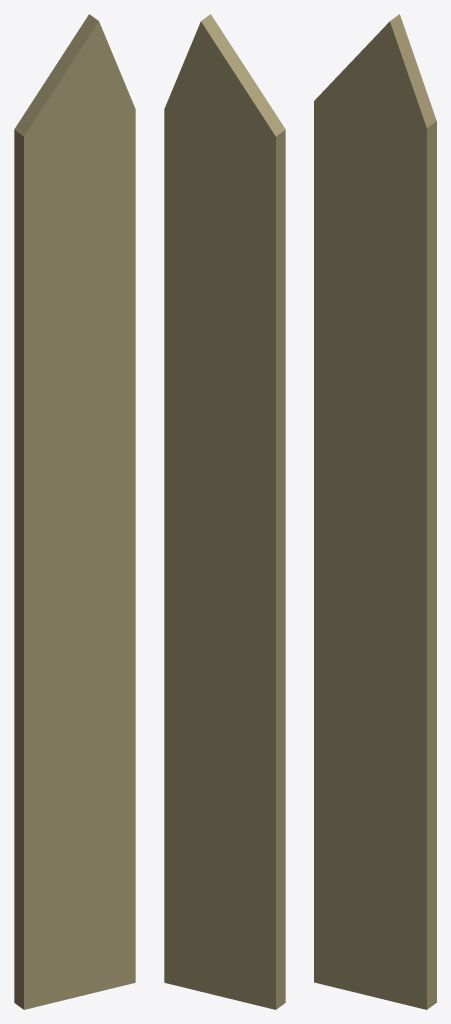
File: Fence(10).fbx
The picture shows the model from 3 angles, left to right: view 1: azimuth 30°, elevation 25°; view 2: azimuth 150°, elevation 25°; view 3: azimuth 330°, elevation 25°; orthographic projection.
Visible parts, largest first — view 1: Cube.057; view 2: Cube.057; view 3: Cube.057.
Boxes of the visible parts, bbox=[...] form: Cube.057: bbox=[14, 14, 135, 1009]; Cube.057: bbox=[164, 14, 285, 1009]; Cube.057: bbox=[314, 14, 436, 1009].
Size of the model in its own units: 20.2 by 168 by 3.09.
Materials: 1 (1 with a texture image).
